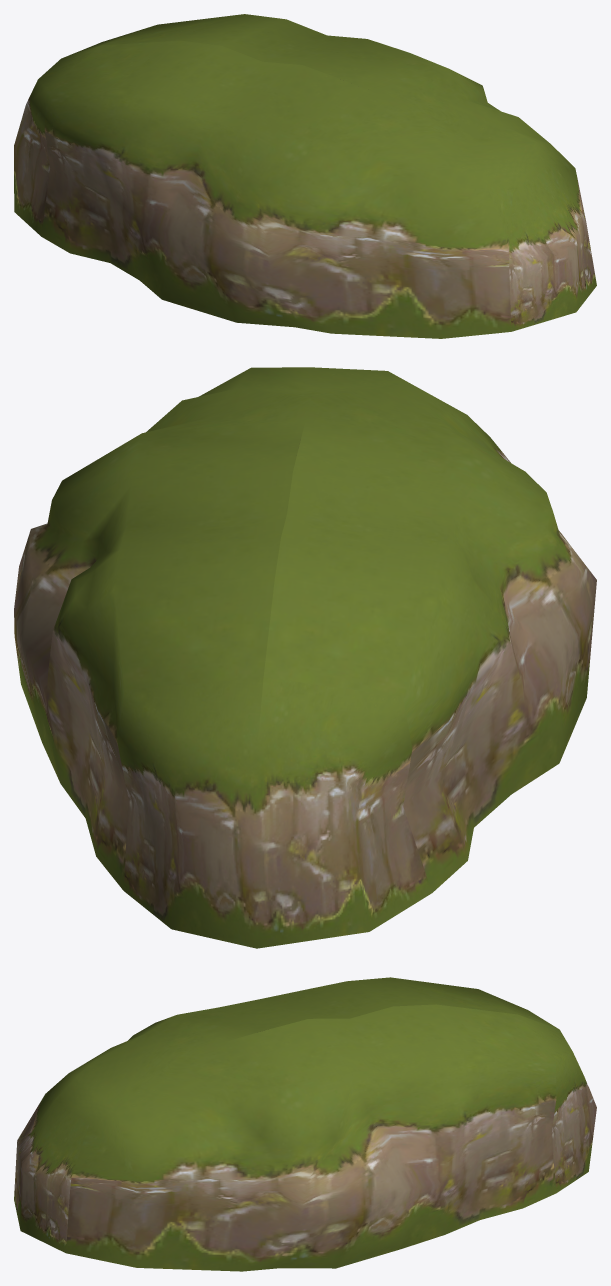
The model's file is gaoyuan_bianyuan_04 (7).fbx.
3 views of the same model, one above another, from view 1: azimuth 30°, elevation 25°; view 2: azimuth 150°, elevation 25°; view 3: azimuth 270°, elevation 25° (orthographic). The views are drawn at different scales.
Visible parts, largest first — view 1: gaoyuan_bianyuan_04 (7); view 2: gaoyuan_bianyuan_04 (7); view 3: gaoyuan_bianyuan_04 (7).
Boxes of the visible parts, <box> form: gaoyuan_bianyuan_04 (7): <box>14,14,596,338</box>; gaoyuan_bianyuan_04 (7): <box>14,367,596,948</box>; gaoyuan_bianyuan_04 (7): <box>14,977,596,1271</box>.
Bounding box in the file's own units: 4.97 × 2.46 × 7.11.
